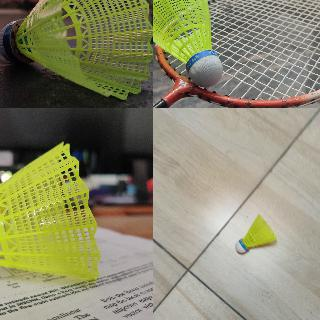shuttlecock: (0, 0, 152, 100), (0, 140, 100, 286), (153, 0, 223, 86), (234, 213, 276, 257)
